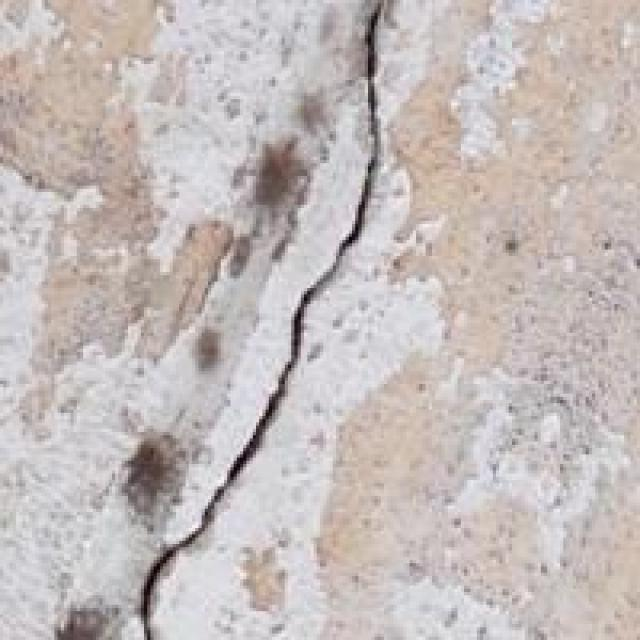Crack: (150, 0, 429, 637)
